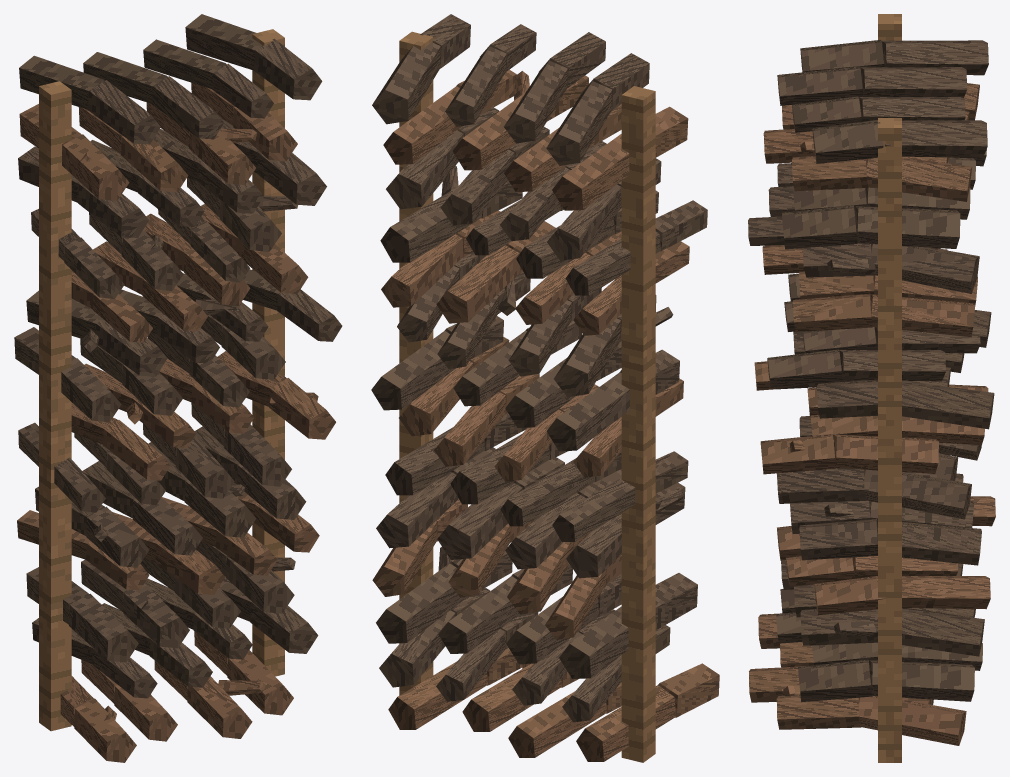
The model's file is f_stick_stack_tall.glb.
3 renders of one model, left to right at view 1: azimuth 30°, elevation 25°; view 2: azimuth 150°, elevation 25°; view 3: azimuth 270°, elevation 25°, orthographic. The views are drawn at different scales.
Parts seen in each view (by area): view 1: block_stacked-stick-2 (×56), block_stacked-stick-1 (×40), block_stack-retaining-stake (×2), block_short-fork-on-branch; view 2: block_stacked-stick-1 (×56), block_stack-retaining-stake (×2), block_stacked-stick-2 (×21); view 3: block_stacked-stick-1 (×29), block_stacked-stick-2 (×35), block_stack-retaining-stake (×2), block_short-fork-on-branch (×2).
Boxes of the visible parts, bbox=[...] form: block_stacked-stick-2 (×56): bbox=[54, 38, 342, 762]; block_stacked-stick-1 (×40): bbox=[14, 14, 286, 726]; block_stack-retaining-stake (×2): bbox=[39, 29, 284, 731]; block_short-fork-on-branch: bbox=[218, 680, 265, 695]; block_stacked-stick-1 (×56): bbox=[371, 42, 675, 761]; block_stack-retaining-stake (×2): bbox=[399, 31, 655, 762]; block_stacked-stick-2 (×21): bbox=[420, 14, 719, 717]; block_stacked-stick-1 (×29): bbox=[833, 40, 995, 745]; block_stacked-stick-2 (×35): bbox=[748, 40, 886, 729]; block_stack-retaining-stake (×2): bbox=[878, 14, 901, 762]; block_short-fork-on-branch (×2): bbox=[827, 258, 877, 637].
Size of the model in its own units: 0.8311 by 2.08 by 0.7358.
1 material, 1 textured.
